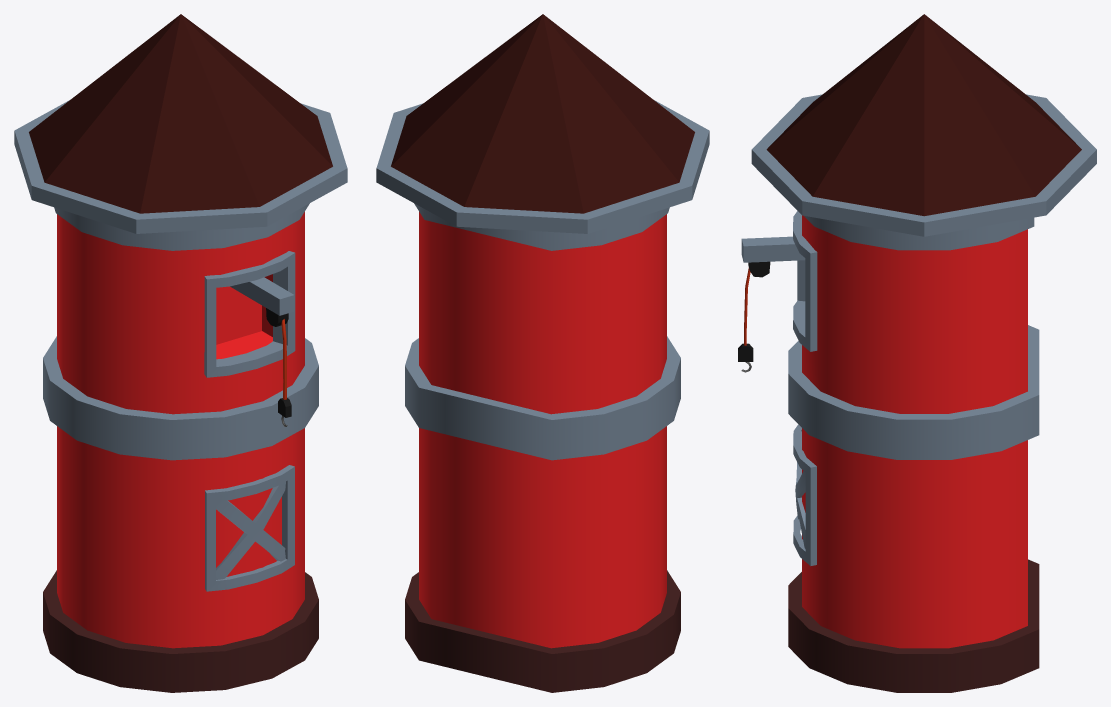
File: Farm Tower.fbx
The picture shows the model from 3 angles, left to right: view 1: azimuth 30°, elevation 25°; view 2: azimuth 150°, elevation 25°; view 3: azimuth 270°, elevation 25°; orthographic projection.
Parts seen in each view (by area): view 1: Cube.022, Circle.004; view 2: Cube.022; view 3: Cube.022, Circle.004.
Part boxes in pixels (bbox=[...]): Cube.022: bbox=[14, 14, 347, 692]; Circle.004: bbox=[230, 277, 294, 426]; Cube.022: bbox=[376, 14, 709, 692]; Cube.022: bbox=[751, 14, 1096, 692]; Circle.004: bbox=[738, 236, 805, 372].
Size of the model in its own units: 253 by 263 by 502.
